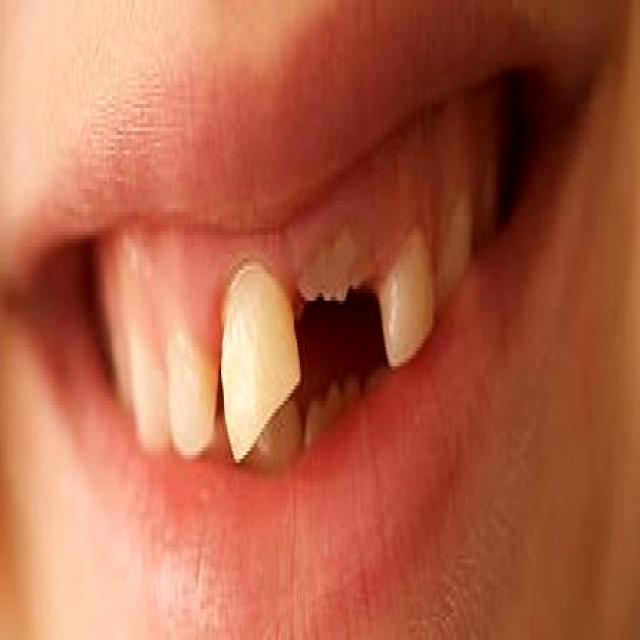hypodontia: (274, 219, 391, 386)
